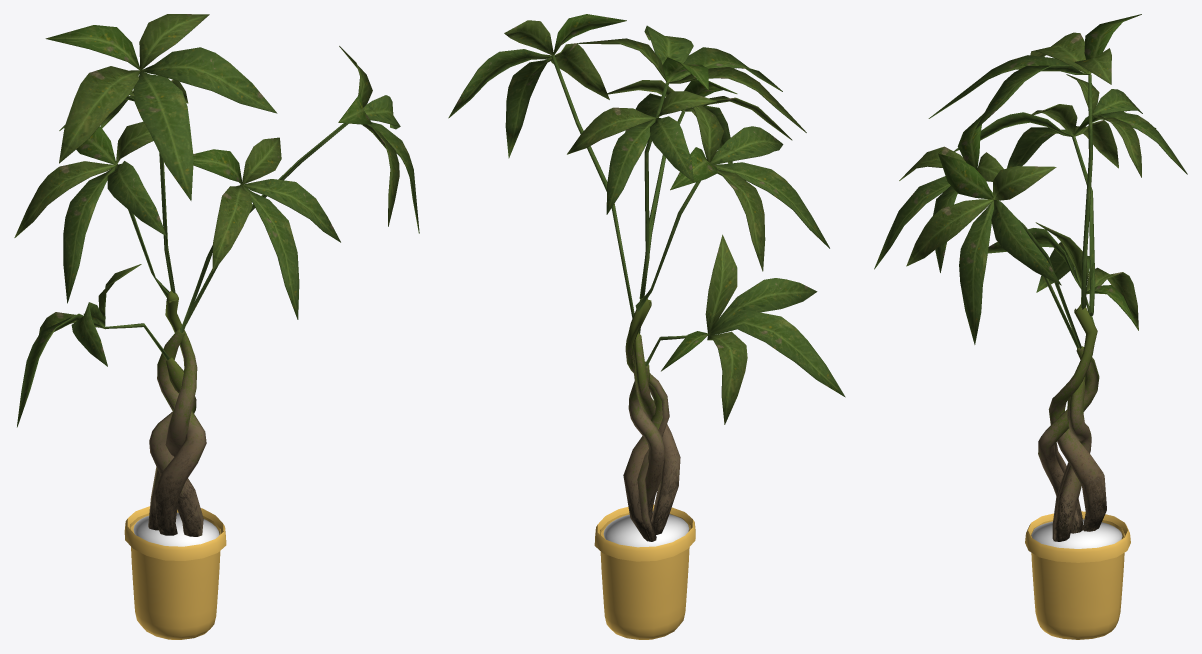
File: Plant2.glb
3 renders of one model, left to right at view 1: azimuth 30°, elevation 25°; view 2: azimuth 150°, elevation 25°; view 3: azimuth 270°, elevation 25°, orthographic. The views are drawn at different scales.
Visible parts, largest first — view 1: SM_MERGED_StaticMeshActor_18; view 2: SM_MERGED_StaticMeshActor_18; view 3: SM_MERGED_StaticMeshActor_18.
Part boxes in pixels (<box>): SM_MERGED_StaticMeshActor_18: <box>14,14,419,639</box>; SM_MERGED_StaticMeshActor_18: <box>448,14,845,639</box>; SM_MERGED_StaticMeshActor_18: <box>874,14,1187,639</box>.
Bounding box in the file's own units: 0.3388 × 0.5043 × 0.246.
3 materials, 1 textured.
